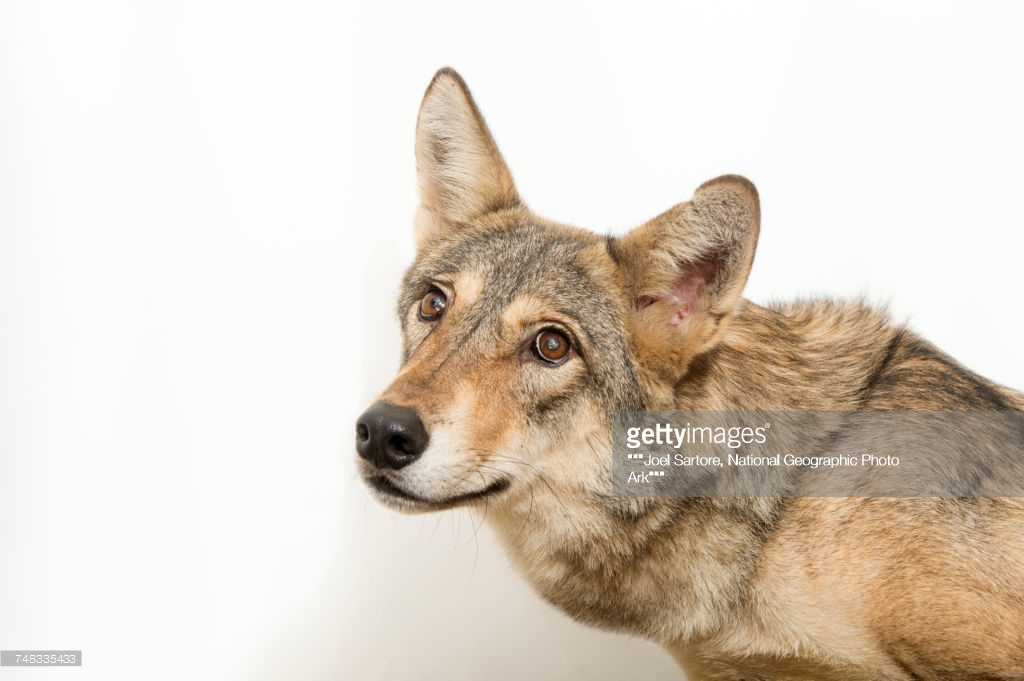dog: (355, 74, 1024, 674)
